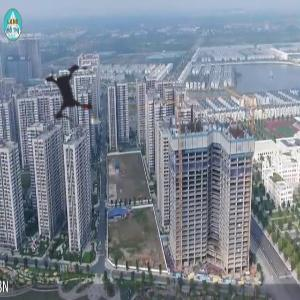drone: (18, 38, 131, 151)
